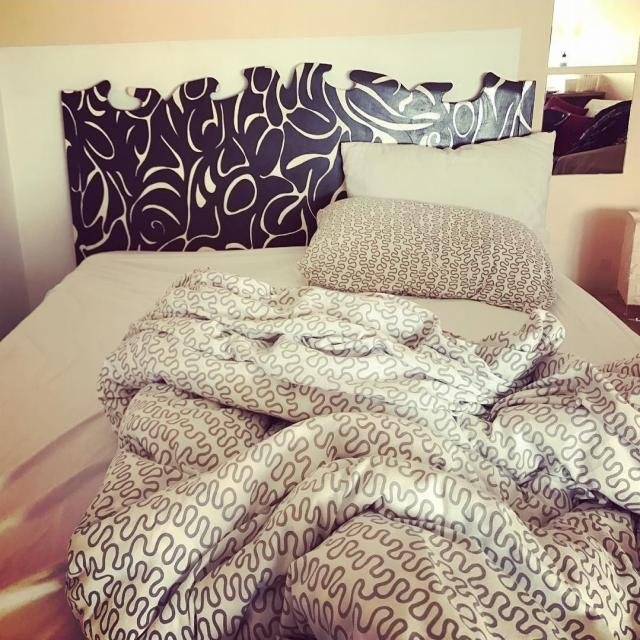bed: (0, 192, 633, 640)
